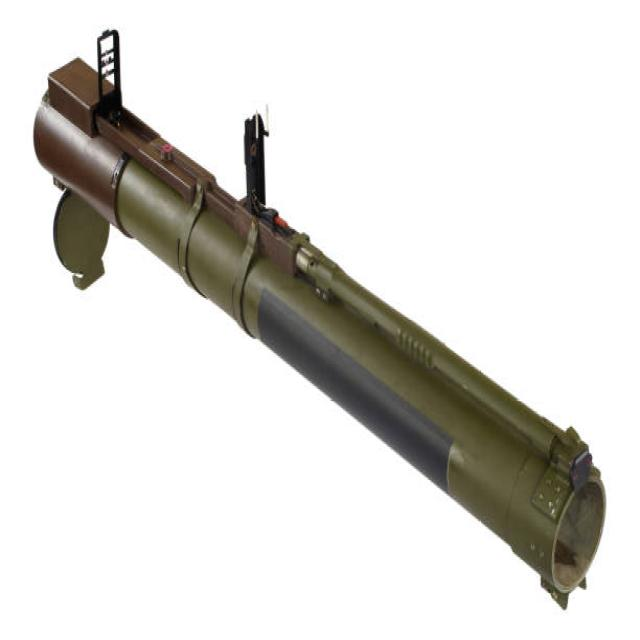bazooka: (25, 19, 614, 617)
